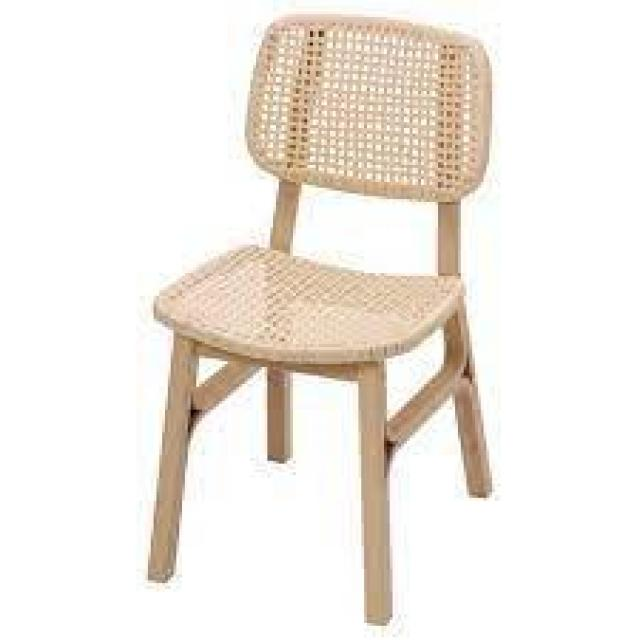chair: (132, 20, 505, 629)
